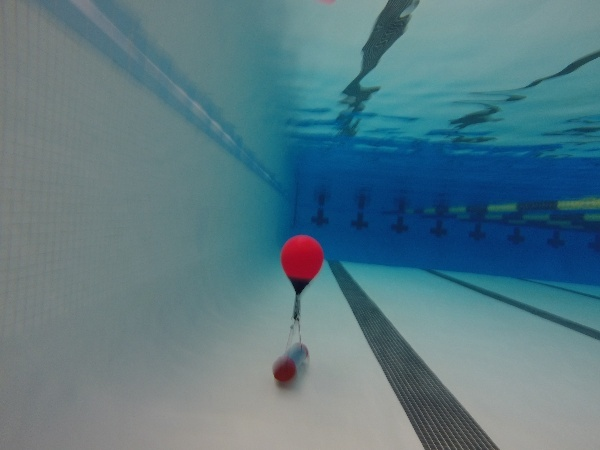buoy_red: (275, 234, 326, 293)
